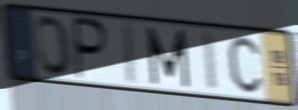C: (226, 35, 264, 96)
I: (202, 29, 220, 94), (123, 18, 139, 88)
M: (145, 25, 192, 90)
O: (34, 14, 73, 79)
P: (74, 15, 111, 83)
